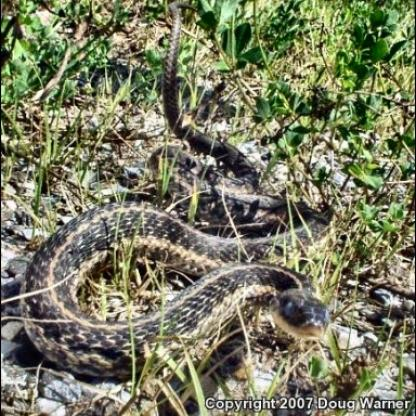Snake: (20, 9, 330, 370)
